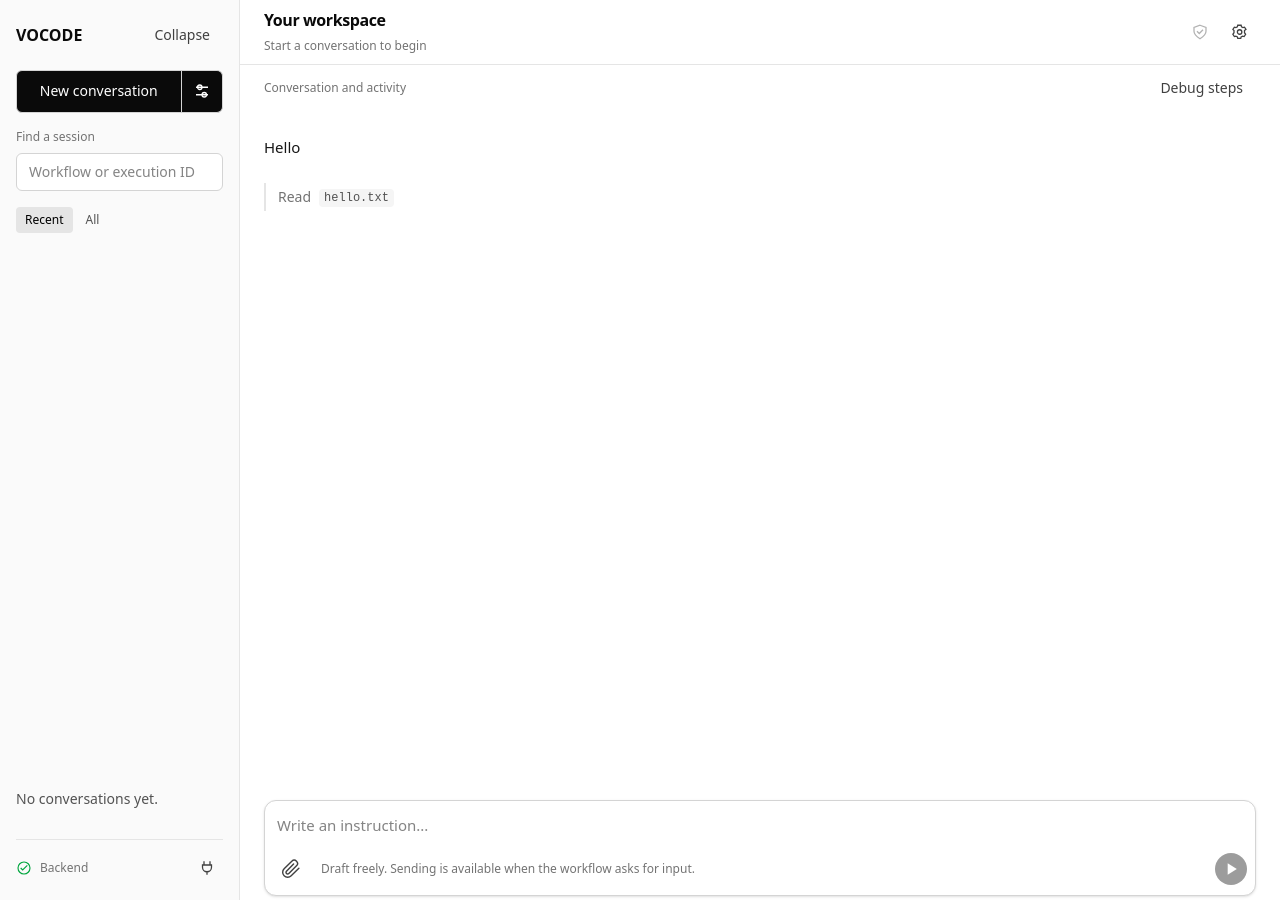
Scenario: disabling debug closes the activity inspector without reopening it later
Click the text "Hello": (282,147) [264, 137, 300, 157]
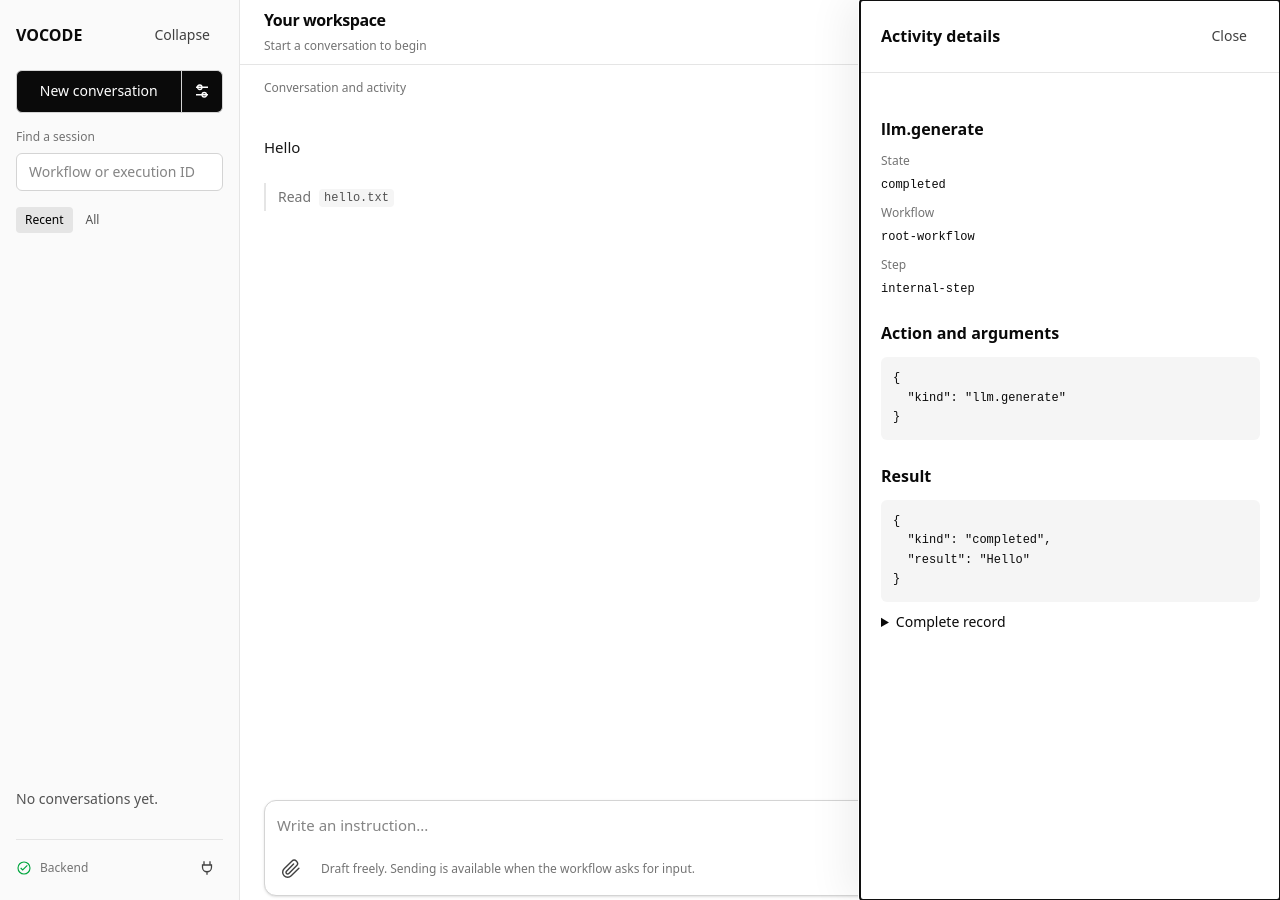
expect the element named "Work inspector" is shown: met, box [860, 0, 1279, 899]
